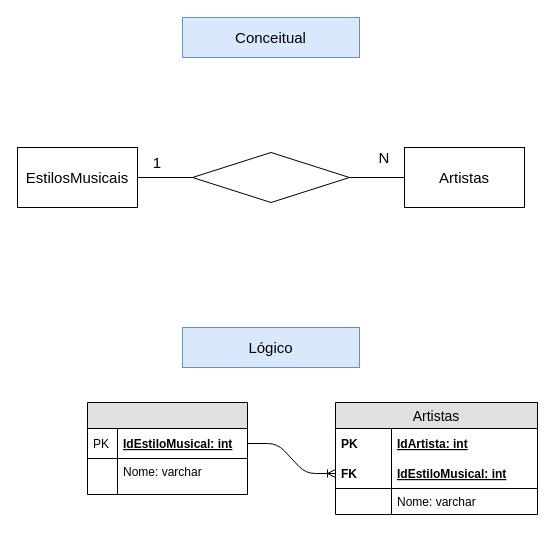
Some shapes in this 555 by 535 pixel diagram are drawn without their labels. The box of each missing label's shape, as (x1, y1, x2, y2) in pixels:
EstilosMusicas: (86, 402, 248, 494)
tem: (192, 152, 350, 202)
